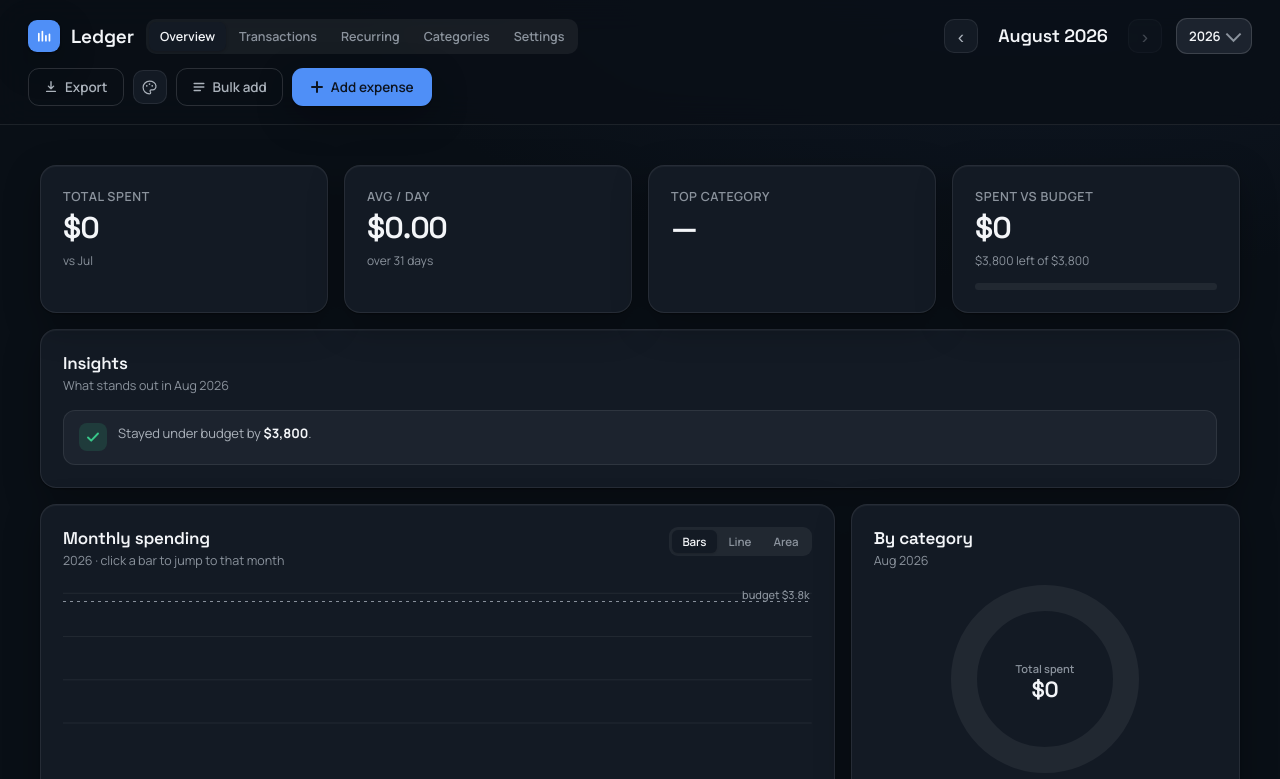
it: App — smoke + parity › keeps stored transactions older than the 12-month window (no aging-out)
This screenshot has width=1280, height=779.
Click the button "Transactions": click(278, 36) [228, 22, 328, 50]
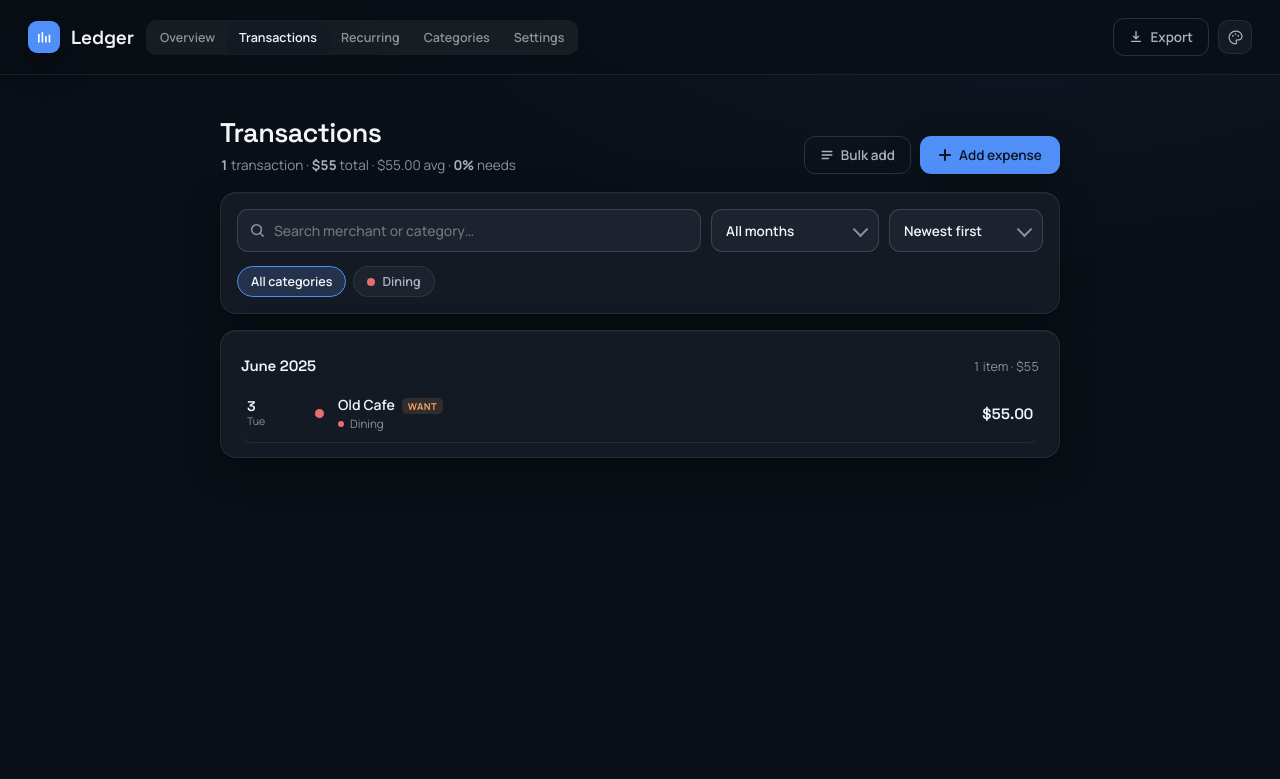
Check: the text "Old Cafe" is shown, box [338, 395, 395, 414]
